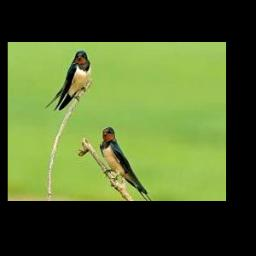Swallow: (100, 126, 152, 201), (46, 50, 92, 111)
